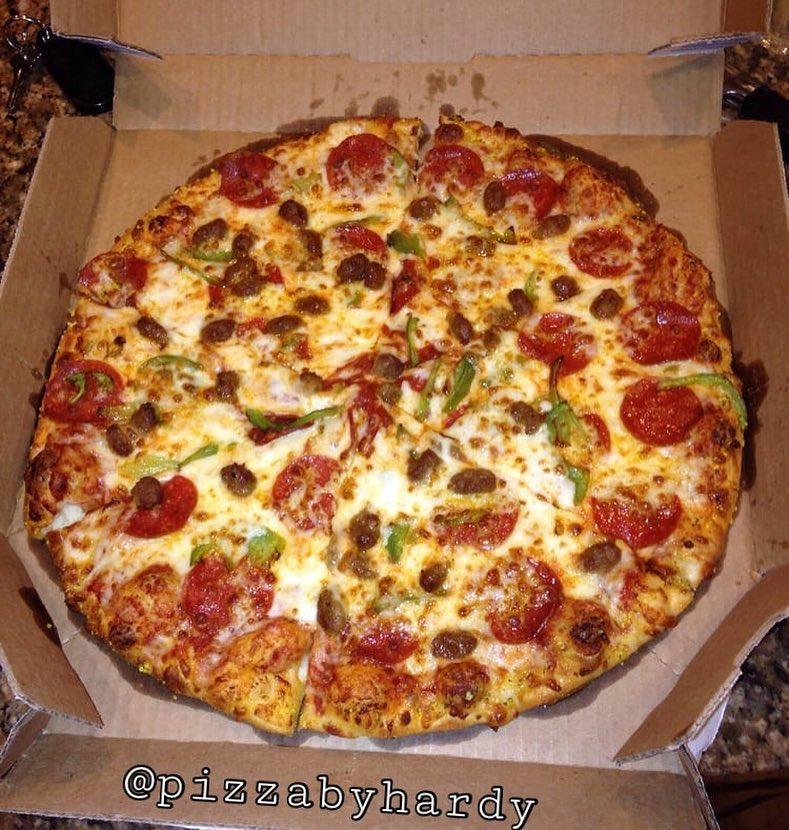Basil: (661, 368, 753, 437), (522, 363, 592, 448), (157, 235, 236, 291), (243, 397, 348, 435), (114, 435, 223, 469), (449, 205, 522, 253), (437, 349, 485, 415), (406, 349, 444, 422), (239, 520, 285, 579), (379, 230, 442, 267), (125, 351, 209, 378), (377, 509, 414, 563), (184, 537, 224, 580), (564, 456, 593, 504), (400, 312, 424, 369)
Pepperoni: (471, 552, 565, 649), (37, 351, 132, 432), (618, 368, 709, 451), (586, 483, 690, 552), (271, 453, 348, 537), (617, 298, 706, 369), (516, 306, 600, 377), (337, 346, 410, 427), (125, 471, 201, 548), (325, 126, 405, 198), (71, 248, 157, 310), (431, 498, 523, 553), (214, 145, 288, 211), (345, 611, 427, 665), (408, 140, 488, 195), (570, 218, 637, 282), (492, 164, 559, 219), (390, 254, 441, 313), (337, 223, 393, 265), (574, 408, 617, 456)
Pizza: (20, 101, 756, 743)
